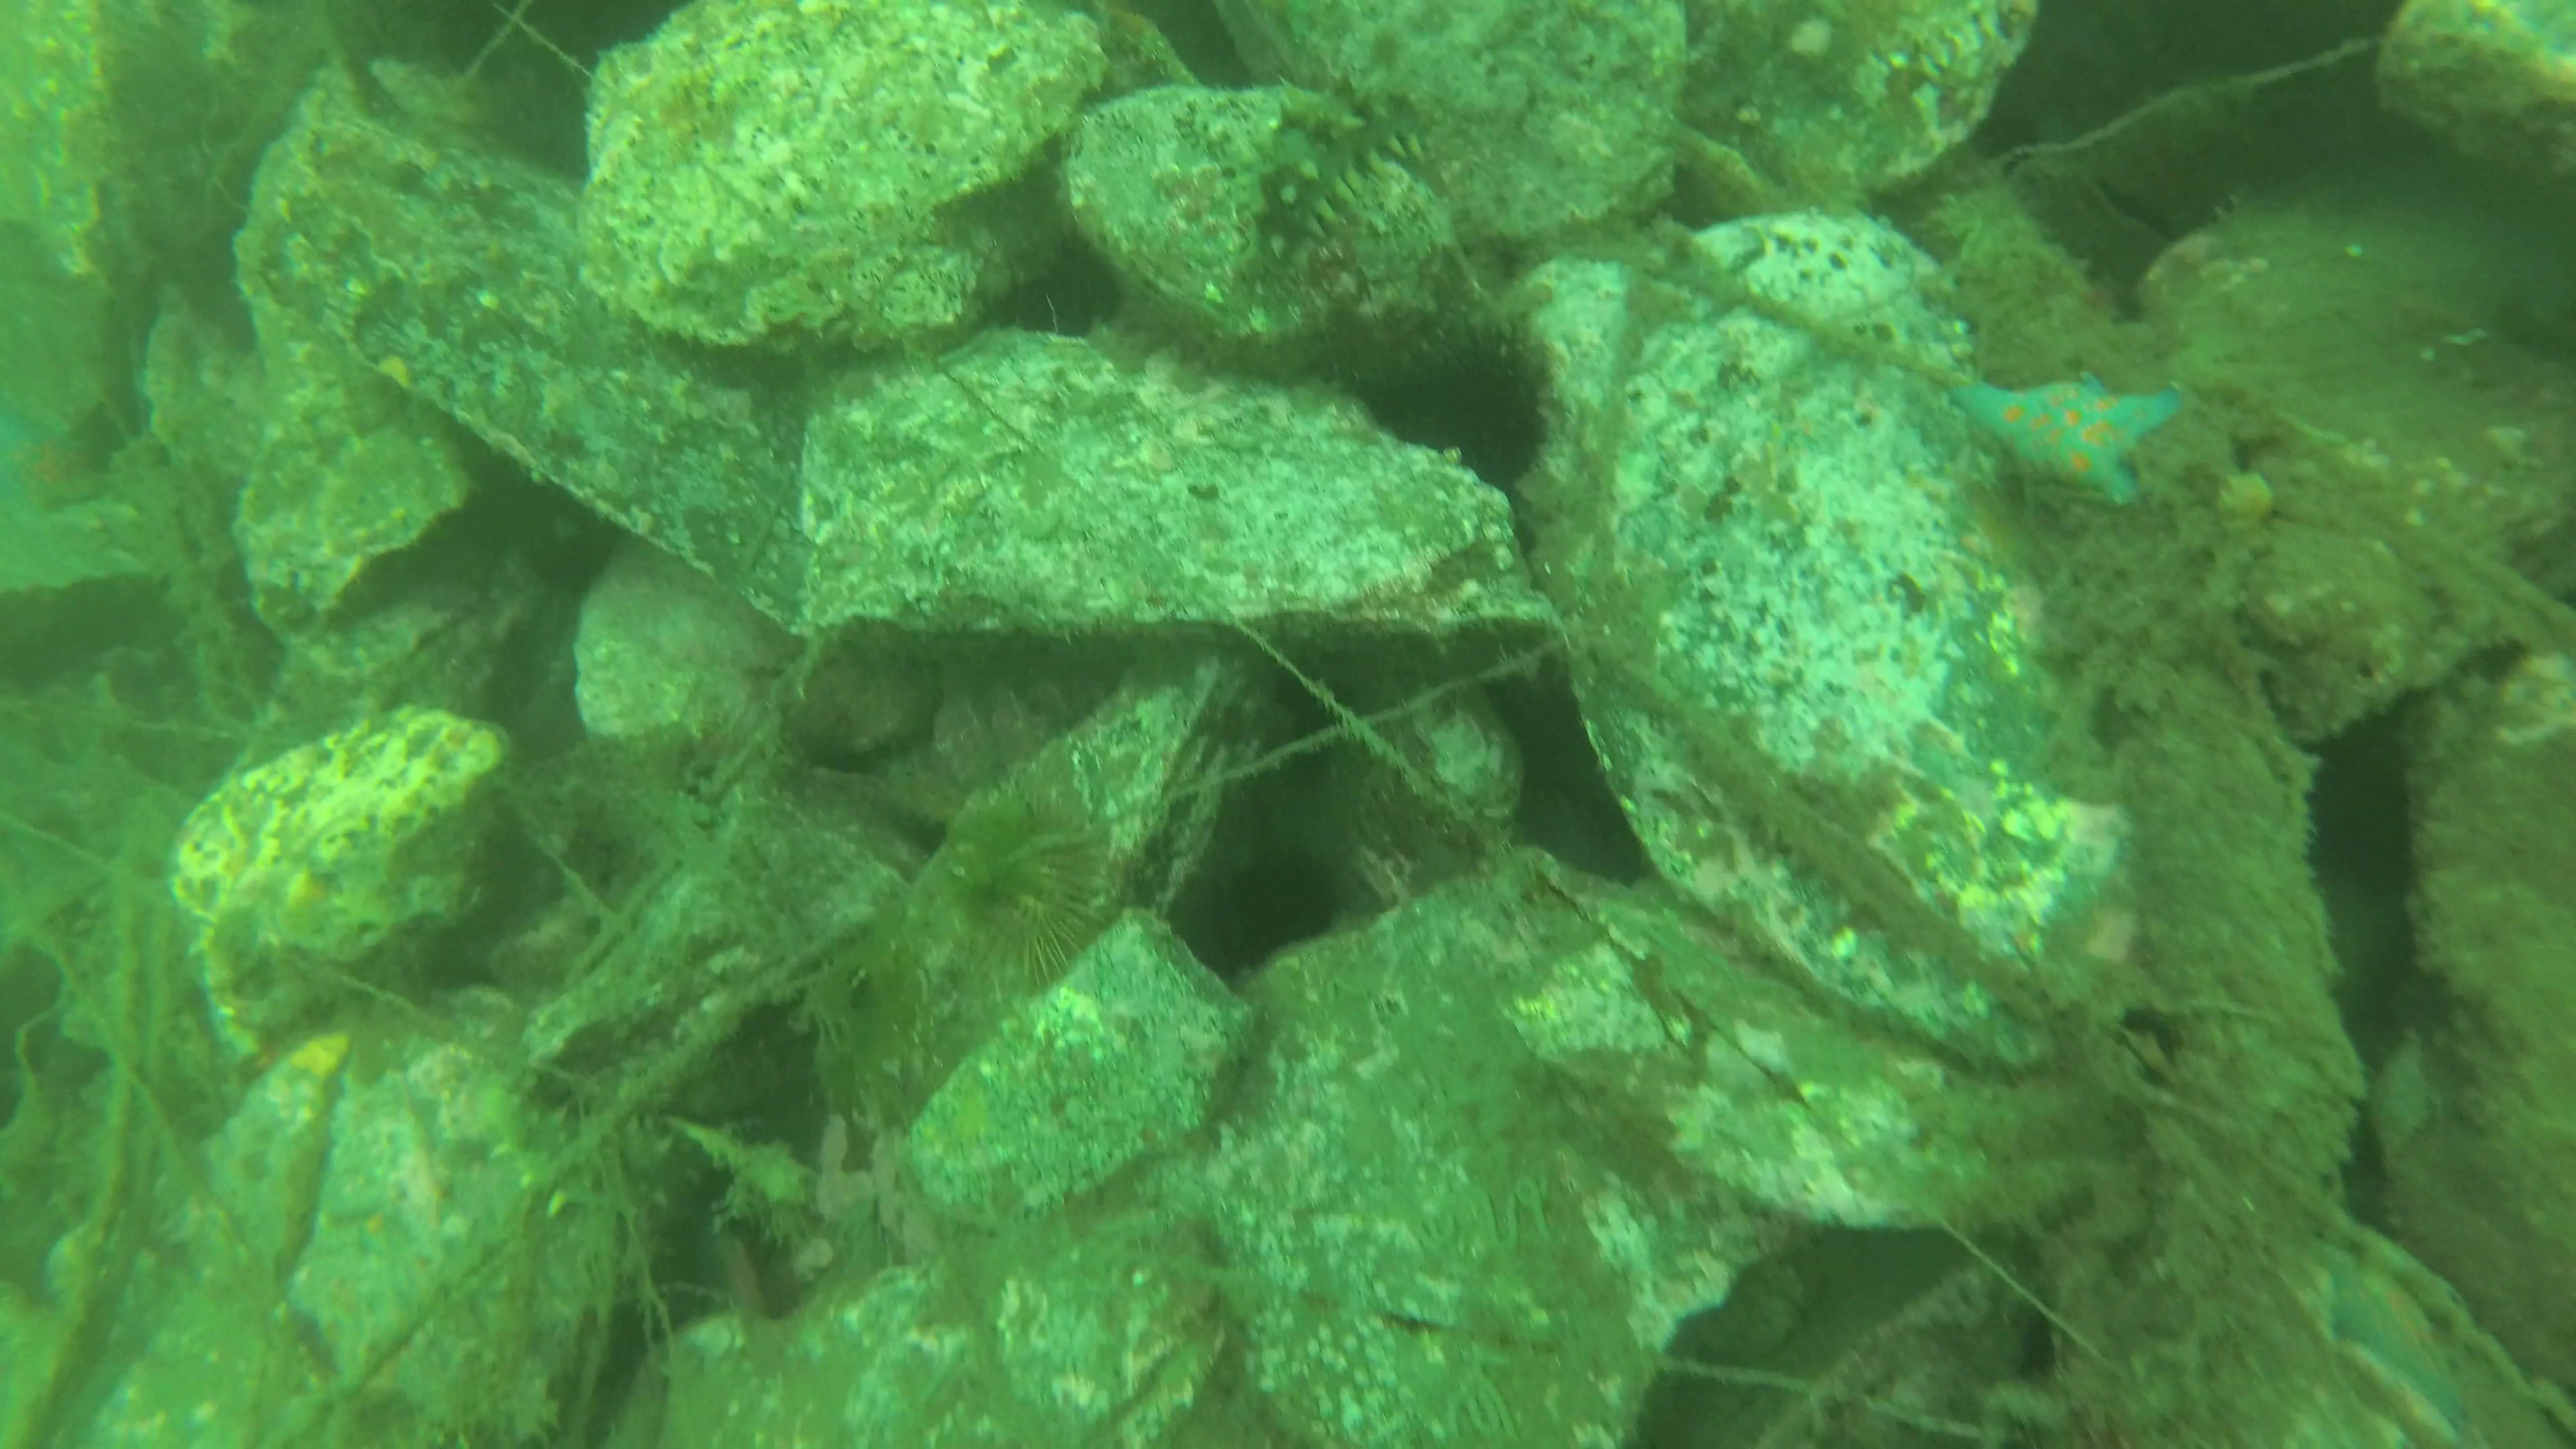echinus: (936, 794, 1102, 980), (1382, 320, 1552, 490), (1208, 856, 1343, 961)
holothurian: (1235, 73, 1445, 288)
starfish: (2291, 1228, 2477, 1442), (1943, 364, 2187, 511), (0, 405, 97, 518)
